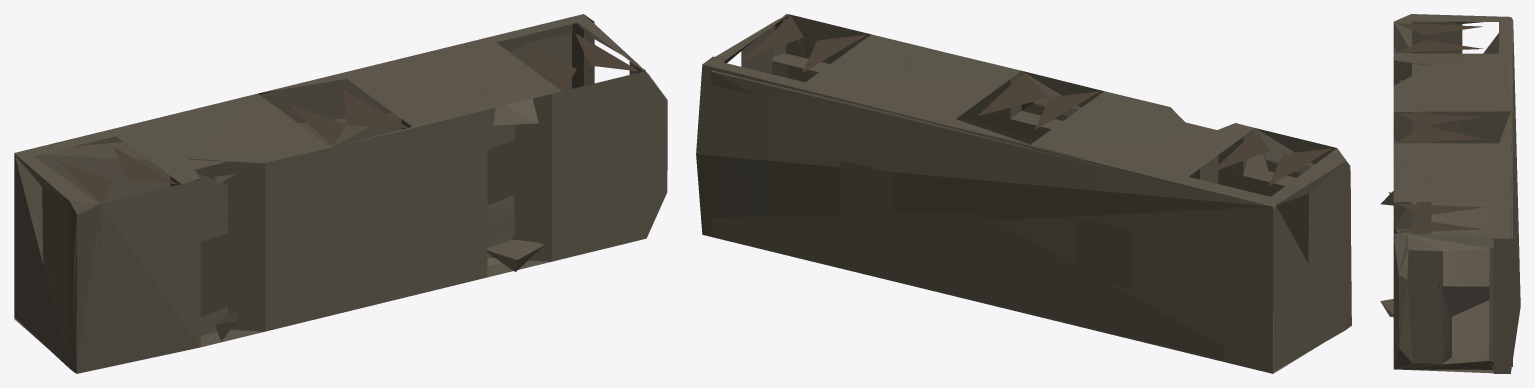
The model's file is wreck-bus.lod2.glb.
3 renders of one model, left to right at view 1: azimuth 30°, elevation 25°; view 2: azimuth 150°, elevation 25°; view 3: azimuth 270°, elevation 25°, orthographic. The views are drawn at different scales.
Visible parts, largest first — view 1: Object_20; view 2: Object_20; view 3: Object_20.
Part boxes in pixels (x1,y1,x2,y2): Object_20: [14, 14, 667, 373]; Object_20: [696, 14, 1351, 373]; Object_20: [1380, 14, 1520, 373].
Bounding box in the file's own units: 11 × 3.03 × 2.83.
